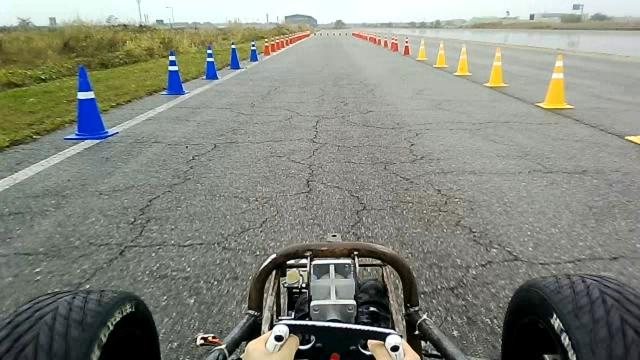blue cone: (63, 64, 119, 141), (160, 49, 189, 96), (202, 44, 219, 80), (227, 42, 243, 69), (248, 39, 259, 62)
red cone: (402, 35, 412, 57), (264, 36, 272, 60)
yellow cone: (535, 54, 574, 110), (483, 46, 509, 88), (453, 43, 472, 76), (432, 40, 448, 68), (415, 38, 428, 62)
